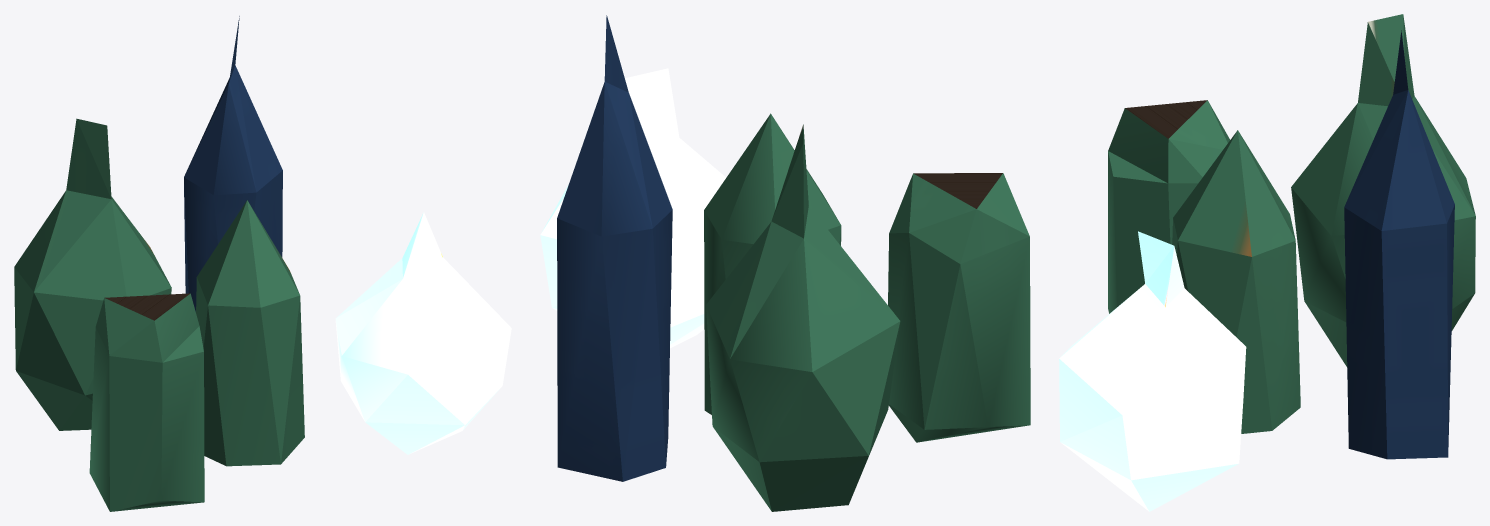
File: bottles_lod2.glb
3 views of the same model, side by side, from view 1: azimuth 30°, elevation 25°; view 2: azimuth 150°, elevation 25°; view 3: azimuth 270°, elevation 25° (orthographic). The views are drawn at different scales.
Parts seen in each view (by area): view 1: bottles; view 2: bottles; view 3: bottles.
Boxes of the visible parts, <box> form: bottles: <box>14,16,511,511</box>; bottles: <box>540,15,1030,511</box>; bottles: <box>1059,14,1475,511</box>.
Size of the model in its own units: 0.3392 by 0.3053 by 0.2733.
Materials: 1 (1 with a texture image).
